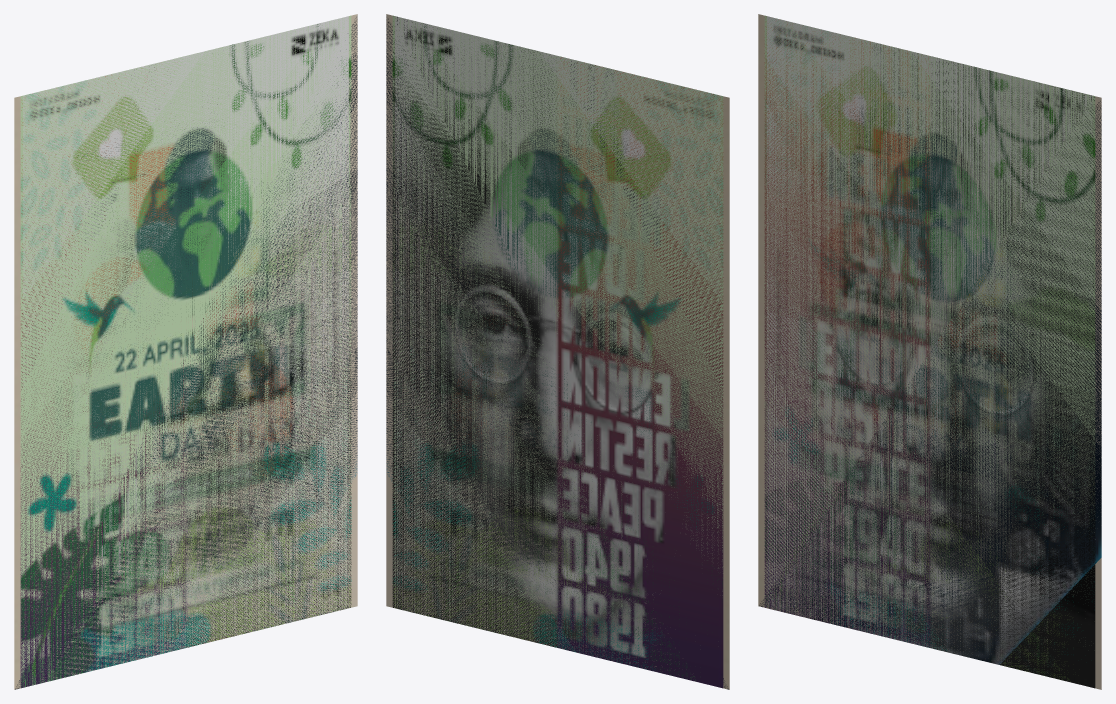
File: posters.fbx
The picture shows the model from 3 angles, left to right: view 1: azimuth 30°, elevation 25°; view 2: azimuth 150°, elevation 25°; view 3: azimuth 330°, elevation 25°; orthographic projection.
Visible parts, largest first — view 1: poster1, poster, poster5, poster3, poster6; view 2: poster3, poster1, poster, poster5, poster6; view 3: poster3, poster1, poster, poster5, poster6.
Boxes of the visible parts, bbox=[...] form: poster1: bbox=[20, 15, 351, 688]; poster: bbox=[23, 16, 348, 651]; poster5: bbox=[14, 14, 357, 689]; poster3: bbox=[20, 67, 351, 687]; poster6: bbox=[15, 15, 357, 689]; poster3: bbox=[392, 17, 723, 688]; poster1: bbox=[392, 15, 723, 680]; poster: bbox=[395, 16, 720, 651]; poster5: bbox=[386, 14, 729, 689]; poster6: bbox=[386, 16, 728, 689]; poster3: bbox=[764, 19, 1095, 688]; poster1: bbox=[764, 15, 1095, 681]; poster: bbox=[767, 16, 1092, 638]; poster5: bbox=[758, 14, 1101, 689]; poster6: bbox=[759, 100, 1101, 664].
Bounding box in the file's own units: 520 × 857 × 0.
Materials: 1 (1 with a texture image).
